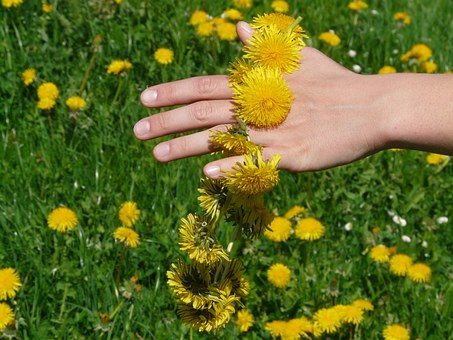dandelion: (170, 218, 252, 335), (268, 301, 376, 337), (368, 241, 441, 292), (237, 67, 293, 132), (242, 29, 304, 66), (230, 154, 282, 197), (109, 199, 146, 255), (43, 204, 76, 238), (1, 267, 18, 330), (263, 261, 296, 289), (36, 84, 60, 112), (299, 215, 322, 243), (382, 322, 410, 340), (66, 95, 83, 116)
